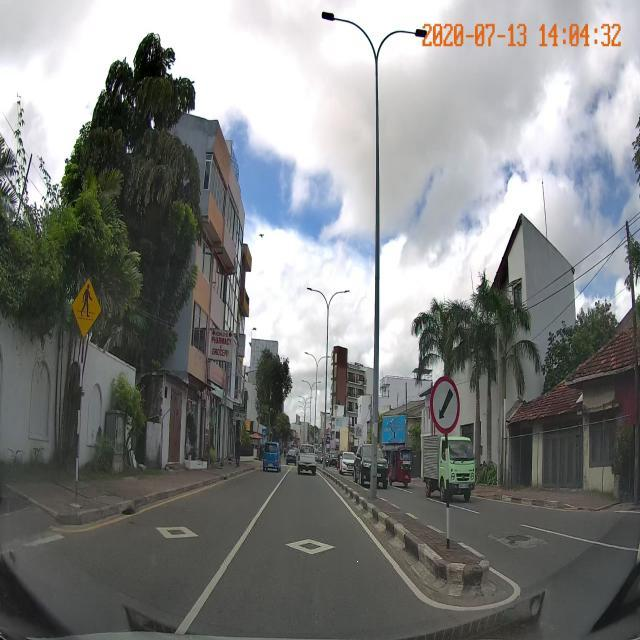diamond: (211, 518, 404, 567)
